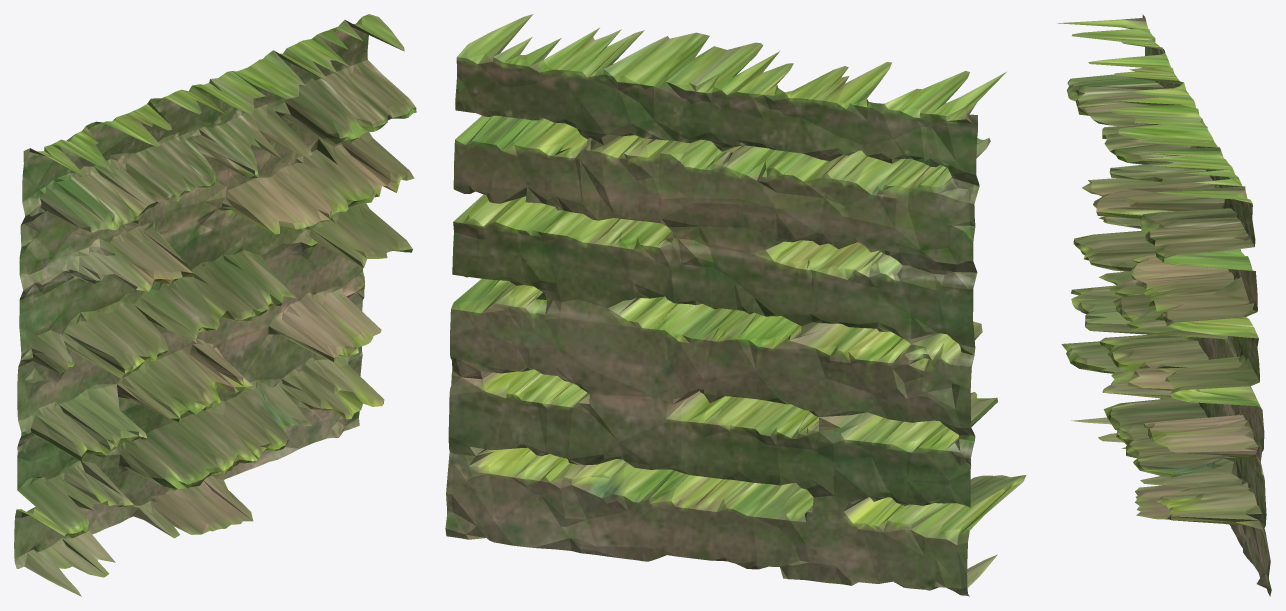
The model's file is map_220_20.obj.
3 renders of one model, left to right at view 1: azimuth 30°, elevation 25°; view 2: azimuth 150°, elevation 25°; view 3: azimuth 270°, elevation 25°, orthographic. The views are drawn at different scales.
Parts seen in each view (by area): view 1: grp1; view 2: grp1; view 3: grp1.
Part boxes in pixels (bbox=[...]): grp1: bbox=[14, 14, 416, 596]; grp1: bbox=[445, 14, 1026, 596]; grp1: bbox=[1057, 14, 1271, 596].
Size of the model in its own units: 10 by 10 by 4.94.
1 material, 1 textured.
